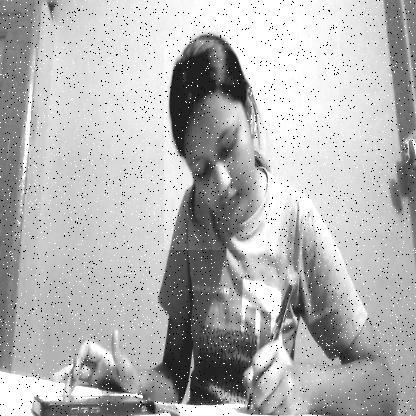Distracted: (164, 40, 266, 250)
